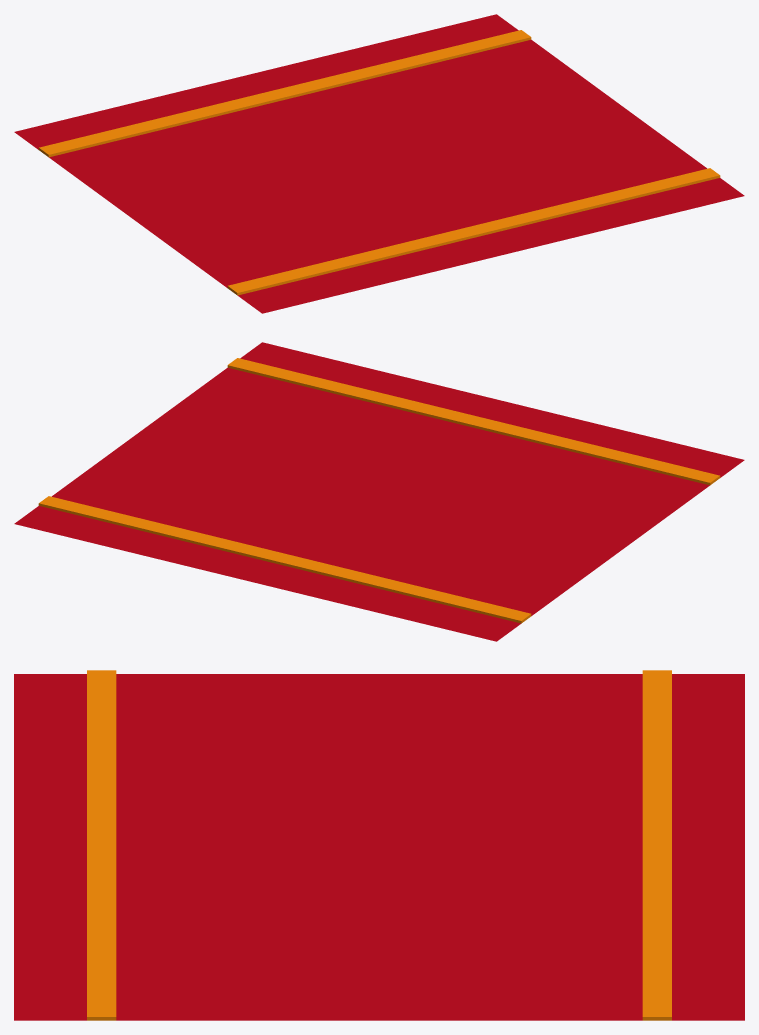
File: Jutan2_typeA.fbx
3 renders of one model, top to bottom at view 1: azimuth 30°, elevation 25°; view 2: azimuth 150°, elevation 25°; view 3: azimuth 270°, elevation 25°, orthographic. The views are drawn at different scales.
Parts seen in each view (by area): view 1: Plane.001; view 2: Plane.001; view 3: Plane.001.
Boxes of the visible parts, bbox=[...] form: Plane.001: bbox=[14, 14, 744, 313]; Plane.001: bbox=[14, 342, 744, 641]; Plane.001: bbox=[14, 670, 744, 1020].
Size of the model in its own units: 200 by 1 by 178.
